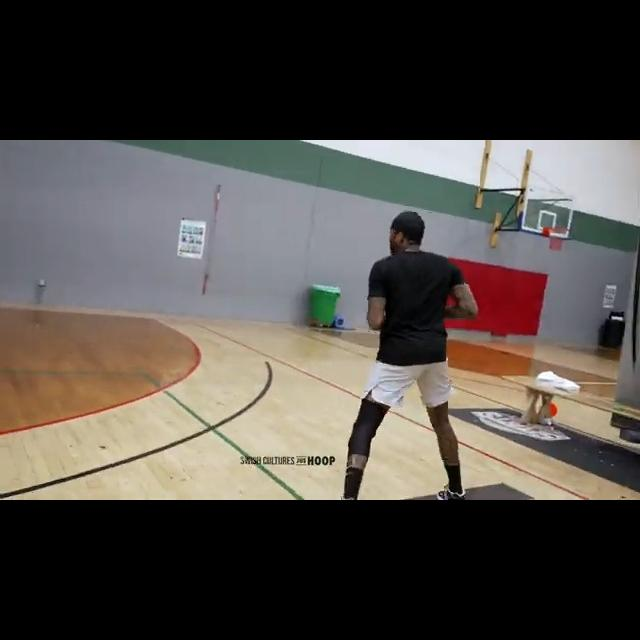hoop: (547, 224, 568, 254)
